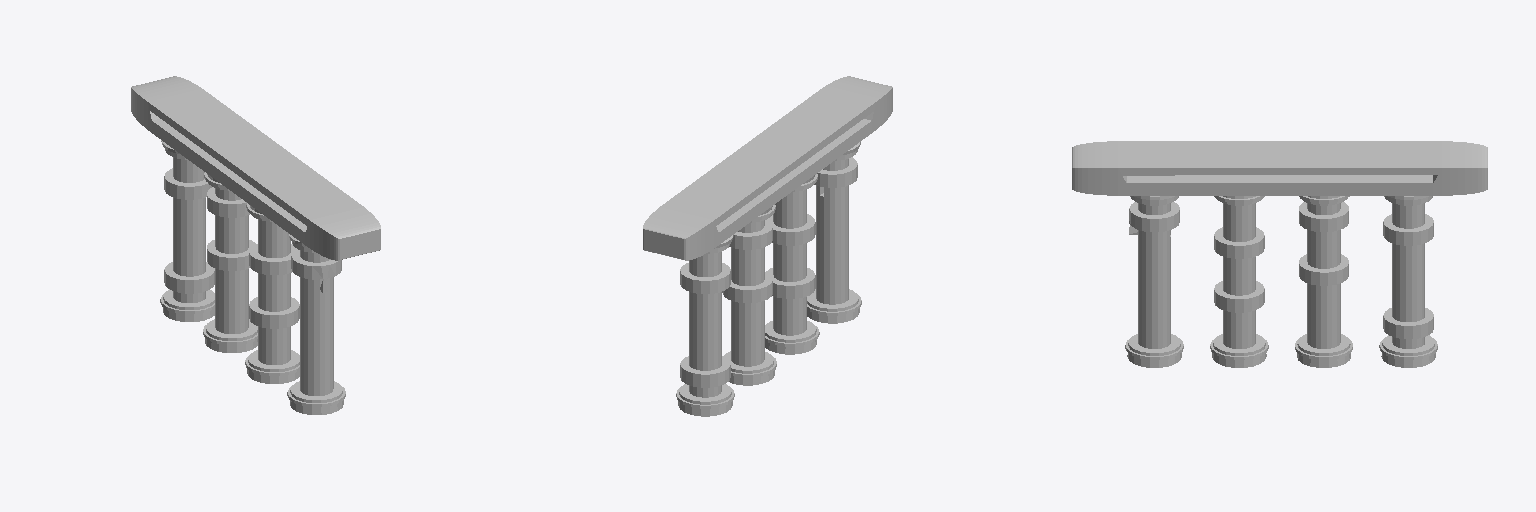
File: Pipes.obj
3 views of the same model, side by side, from view 1: azimuth 30°, elevation 25°; view 2: azimuth 150°, elevation 25°; view 3: azimuth 270°, elevation 25° (orthographic).
Visible parts, largest first — view 1: Pipes.001_Cylinder.010; view 2: Pipes.001_Cylinder.010; view 3: Pipes.001_Cylinder.010.
Part boxes in pixels (x1,y1,x2,y2): Pipes.001_Cylinder.010: (131, 76, 380, 414); Pipes.001_Cylinder.010: (643, 76, 892, 416); Pipes.001_Cylinder.010: (1072, 141, 1487, 367).
Bounding box in the file's own units: 3.78 × 13.4 × 24.85.